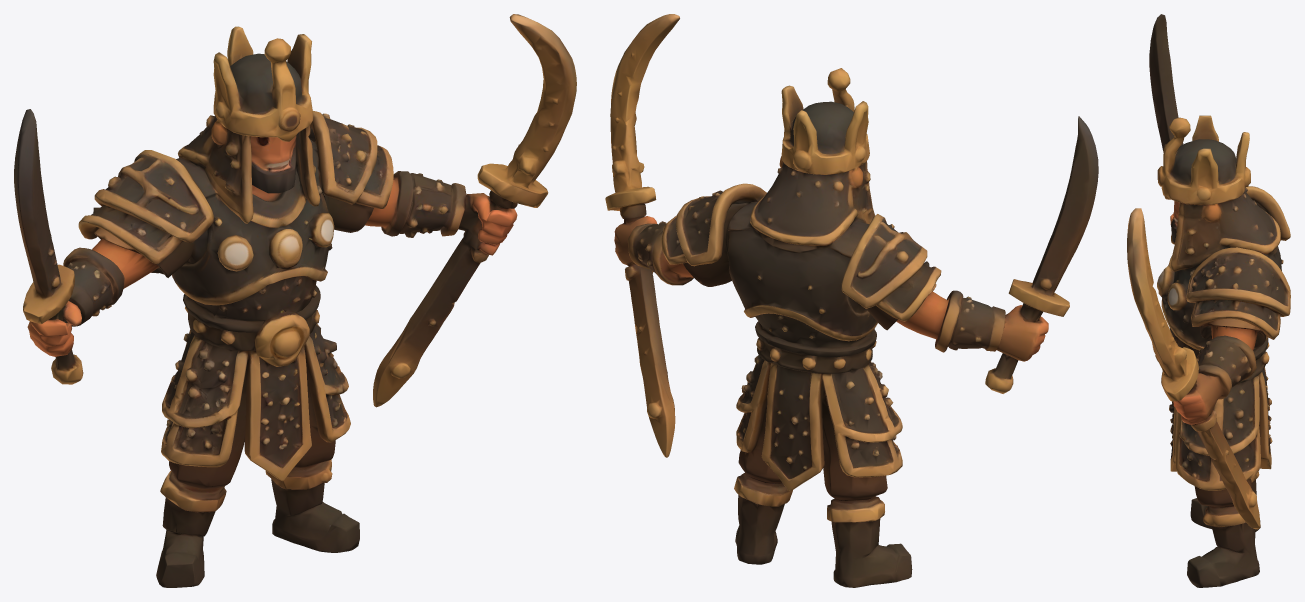
File: comp_batu.glb
The picture shows the model from 3 angles, left to right: view 1: azimuth 30°, elevation 25°; view 2: azimuth 150°, elevation 25°; view 3: azimuth 270°, elevation 25°; orthographic projection. The views are drawn at different scales.
Visible parts, largest first — view 1: tripo_node_6679320b-8ede-43b8-a2b4-fe63afae8cc4; view 2: tripo_node_6679320b-8ede-43b8-a2b4-fe63afae8cc4; view 3: tripo_node_6679320b-8ede-43b8-a2b4-fe63afae8cc4.
Boxes of the visible parts, x1,y1,x2,y2 form: tripo_node_6679320b-8ede-43b8-a2b4-fe63afae8cc4: (14, 14, 576, 587); tripo_node_6679320b-8ede-43b8-a2b4-fe63afae8cc4: (605, 14, 1098, 587); tripo_node_6679320b-8ede-43b8-a2b4-fe63afae8cc4: (1127, 14, 1290, 587).
Size of the model in its own units: 1 by 0.9308 by 0.3173.
Materials: 1 (1 with a texture image).
